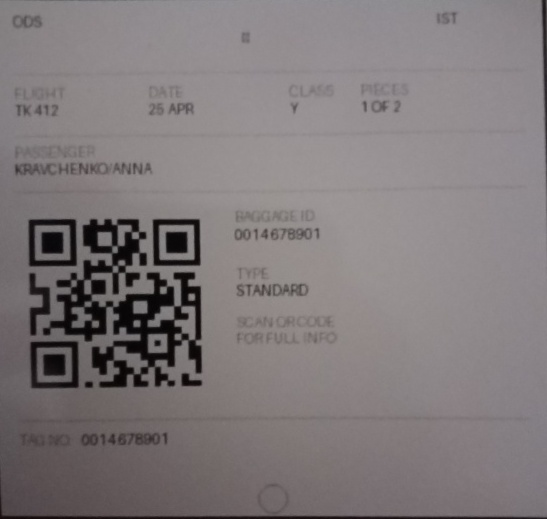LPN_bottom: (76, 426, 172, 452)
LPN_right: (229, 223, 324, 245)
